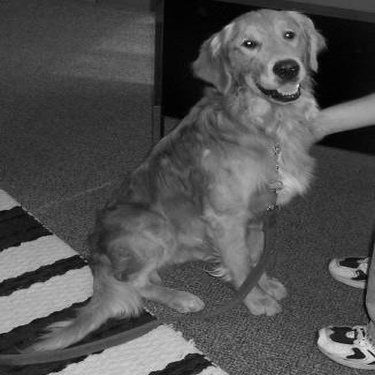dog: (10, 6, 328, 369)
